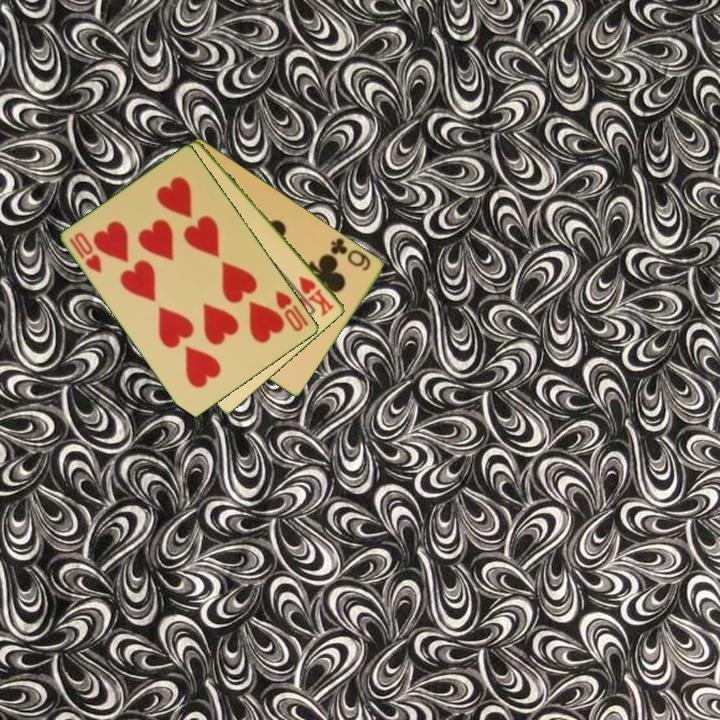10h: (272, 287, 312, 335), (66, 229, 105, 276)
6c: (327, 234, 374, 274)
Kh: (296, 273, 338, 319)
